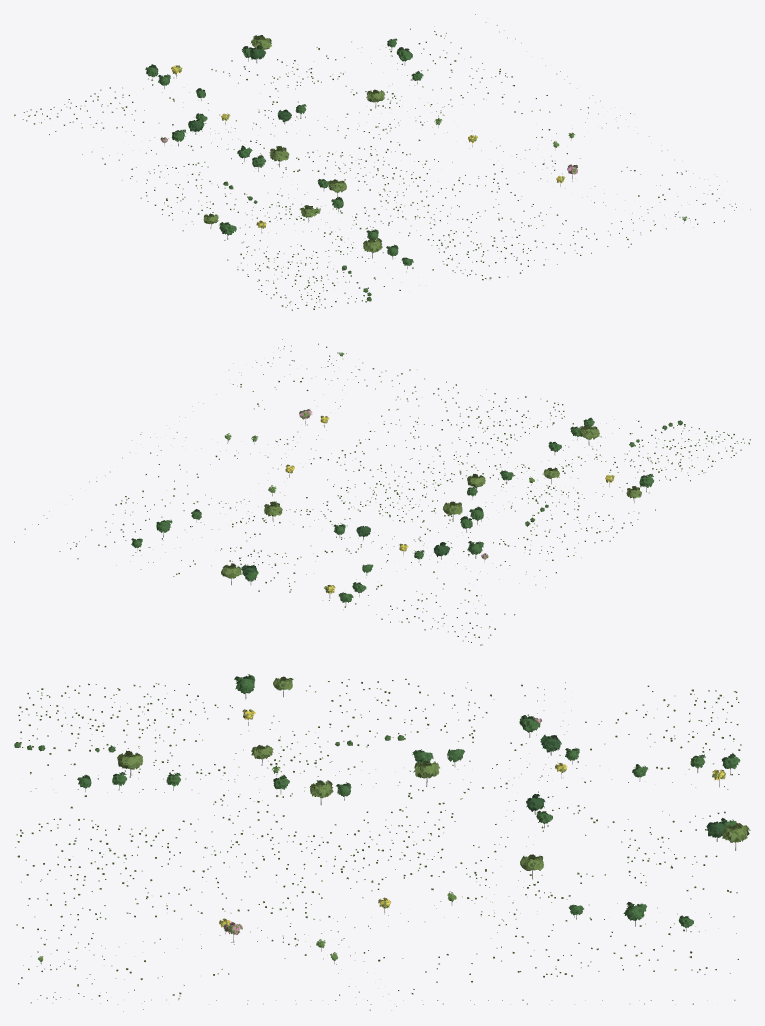
The model's file is Vegetation.fbx.
The picture shows the model from 3 angles, top to bottom: view 1: azimuth 30°, elevation 25°; view 2: azimuth 150°, elevation 25°; view 3: azimuth 270°, elevation 25°; orthographic projection. The views are drawn at different scales.
Visible parts, largest first — view 1: EXPORT_OT_Vegetation_SA_M01_02_S00_02; view 2: EXPORT_OT_Vegetation_SA_M01_02_S00_02; view 3: EXPORT_OT_Vegetation_SA_M01_02_S00_02.
Part boxes in pixels (bbox=[...]): EXPORT_OT_Vegetation_SA_M01_02_S00_02: bbox=[14, 14, 750, 310]; EXPORT_OT_Vegetation_SA_M01_02_S00_02: bbox=[14, 339, 750, 645]; EXPORT_OT_Vegetation_SA_M01_02_S00_02: bbox=[14, 674, 750, 1011].
Size of the model in its own units: 250 by 20.61 by 254.
